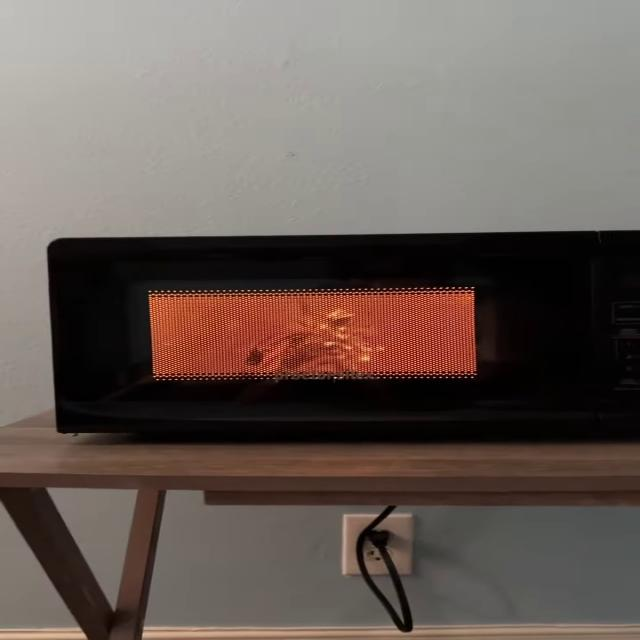fire: (146, 292, 474, 377)
